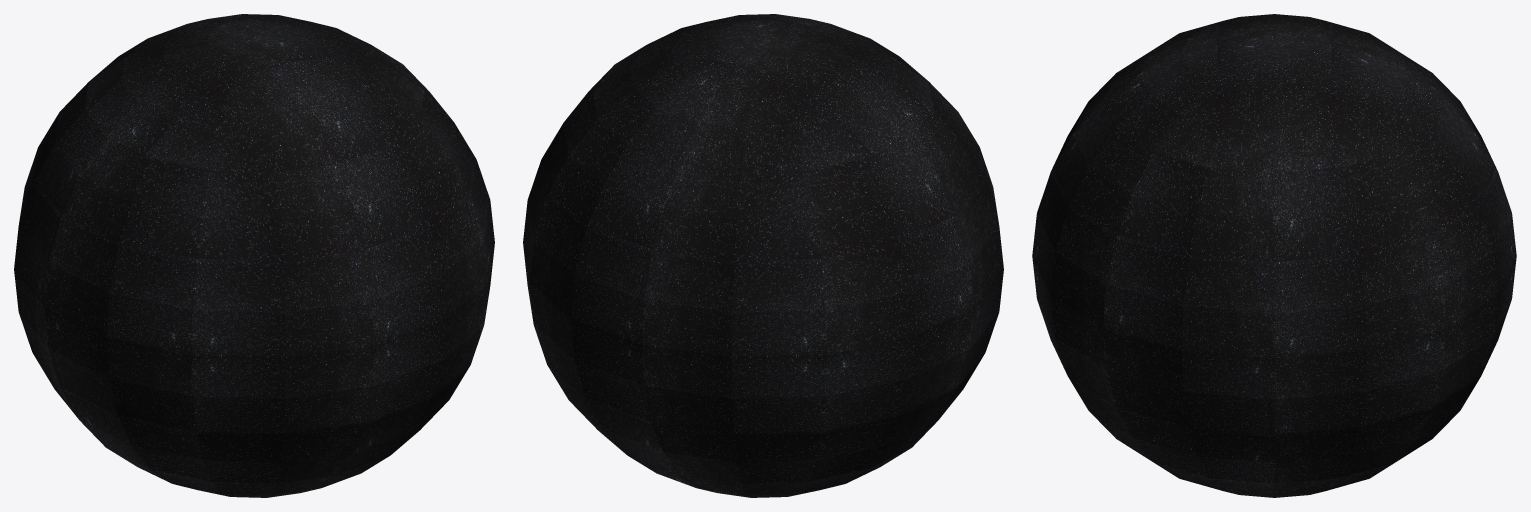
The model's file is TheEnd.fbx.
3 views of the same model, side by side, from view 1: azimuth 30°, elevation 25°; view 2: azimuth 150°, elevation 25°; view 3: azimuth 270°, elevation 25° (orthographic).
Visible parts, largest first — view 1: Sphere; view 2: Sphere; view 3: Sphere.
Boxes of the visible parts, x1=… form: Sphere: x1=14, y1=14, x2=494, y2=497; Sphere: x1=523, y1=14, x2=1003, y2=497; Sphere: x1=1032, y1=14, x2=1516, y2=497.
Size of the model in its own units: 130146 by 130146 by 130146.
Materials: 7 (4 with a texture image).
